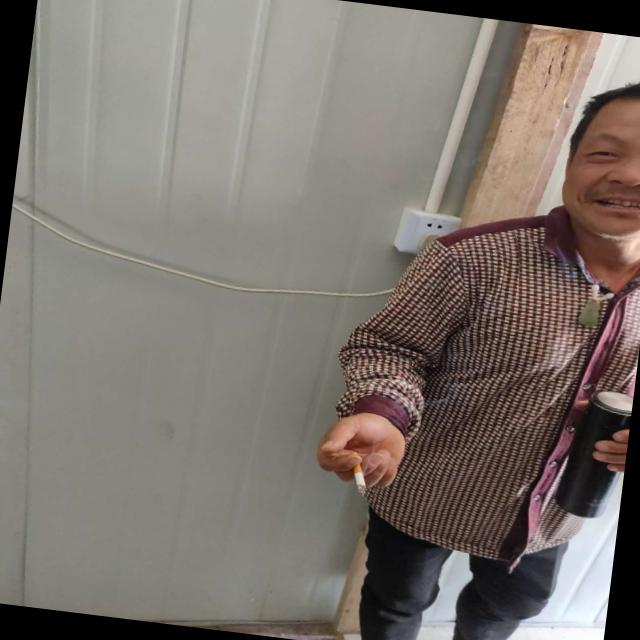smoke: (348, 459, 374, 496)
